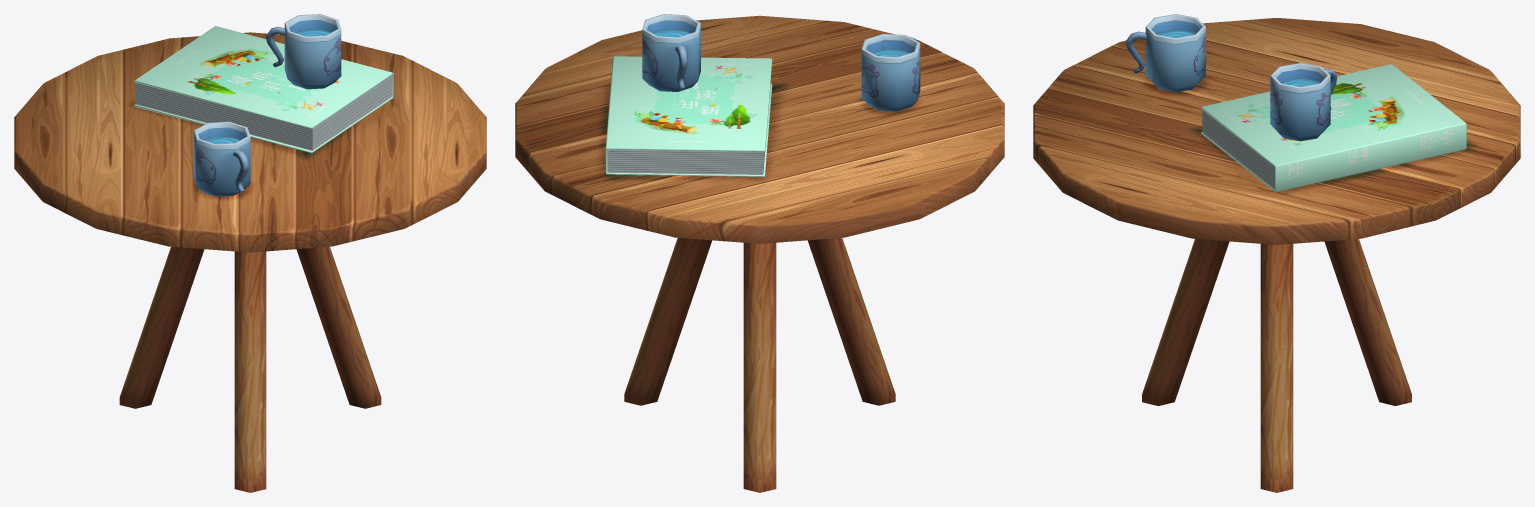
The model's file is desk.FBX.
3 views of the same model, side by side, from view 1: azimuth 30°, elevation 25°; view 2: azimuth 150°, elevation 25°; view 3: azimuth 270°, elevation 25° (orthographic). The views are drawn at different scales.
Parts seen in each view (by area): view 1: zhuozi; view 2: zhuozi; view 3: zhuozi.
Boxes of the visible parts, left/top/right/bottom form: zhuozi: left=14, top=14, right=486, bottom=492; zhuozi: left=515, top=14, right=1004, bottom=492; zhuozi: left=1033, top=14, right=1520, bottom=492.
Size of the model in its own units: 101 by 87.4 by 99.23.
